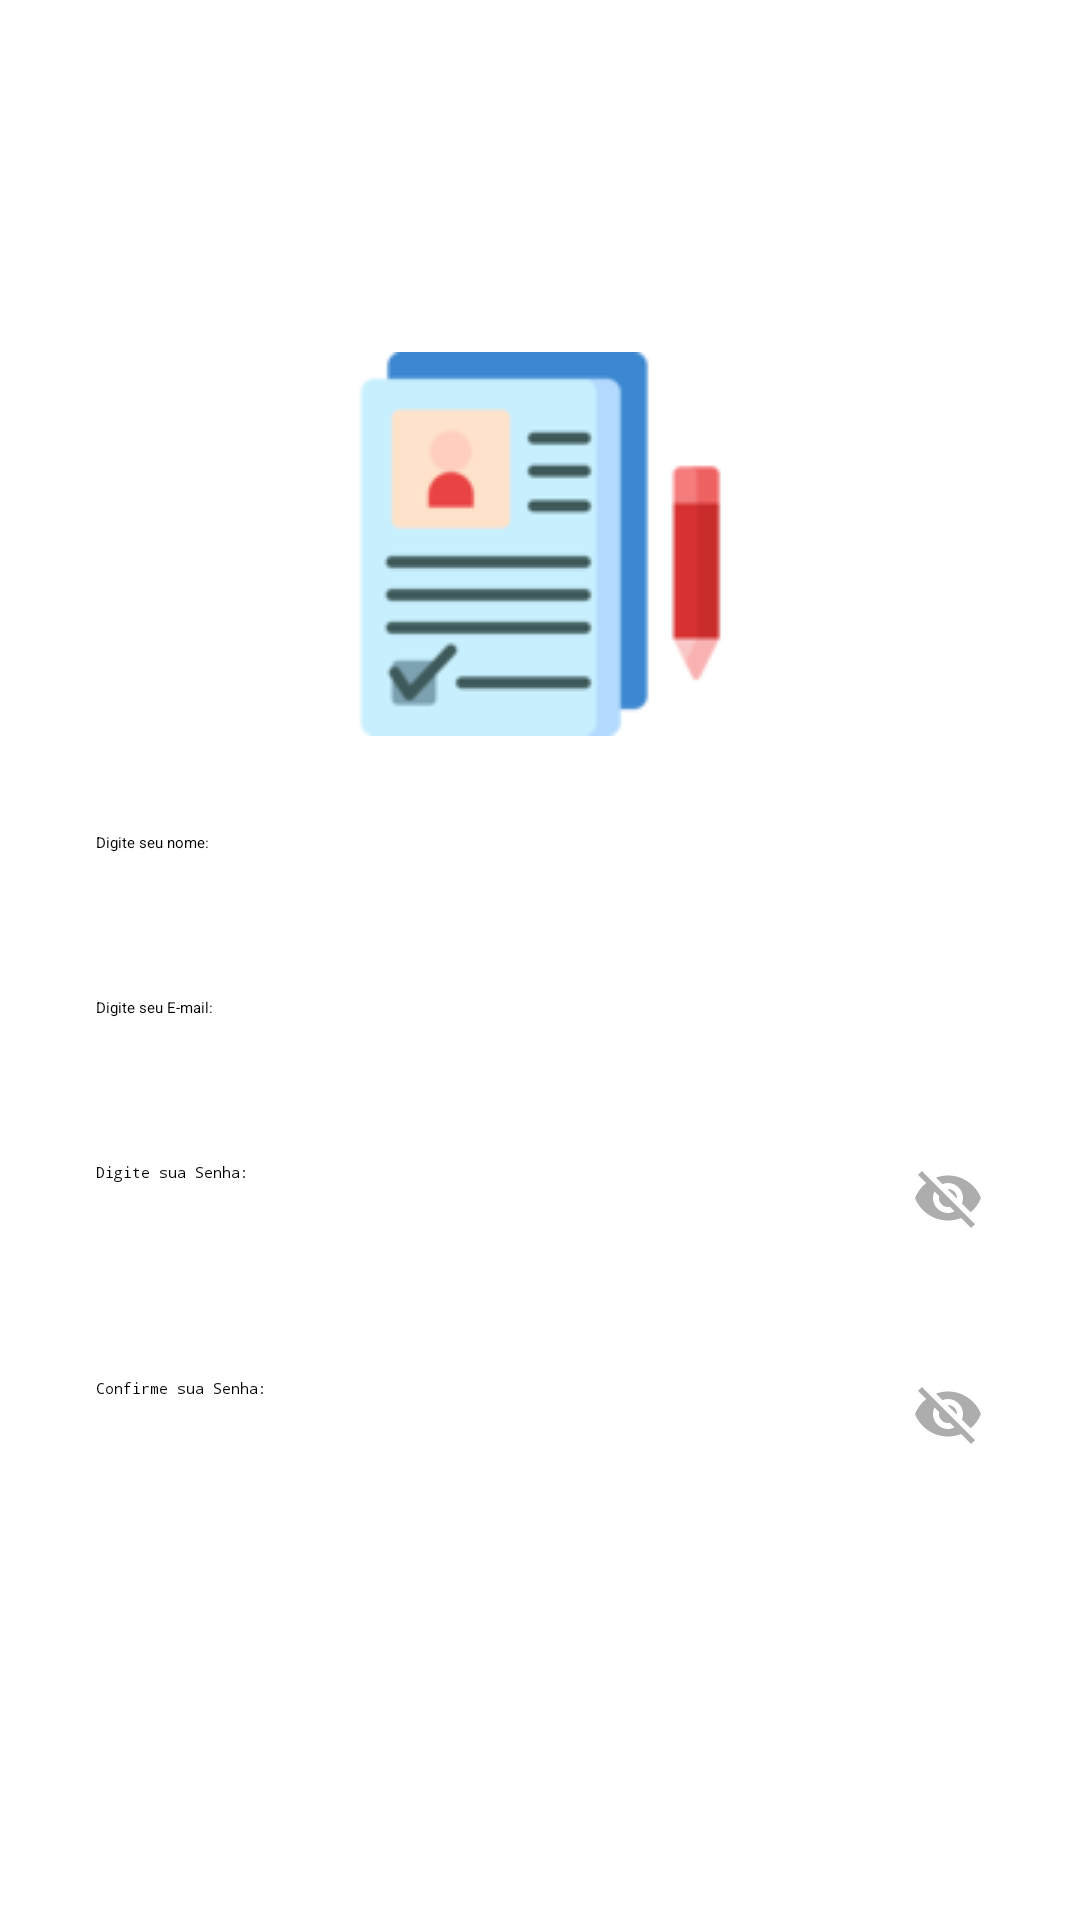

Where icons sit on this 1080w x 1920h app screen, as (left=x1, top=y1, right=x2, bottom=y2):
visibility off: (left=915, top=1171, right=981, bottom=1228), (left=915, top=1387, right=981, bottom=1444)
